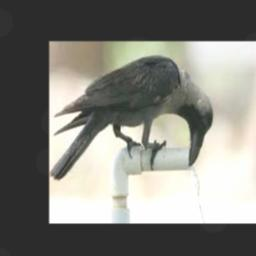Crow: (50, 54, 213, 180)
